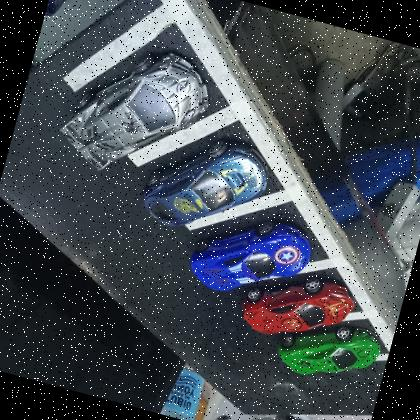Car: (52, 31, 217, 193), (134, 124, 274, 251), (182, 202, 317, 314), (234, 260, 360, 356), (274, 308, 386, 394), (51, 158, 54, 162)
